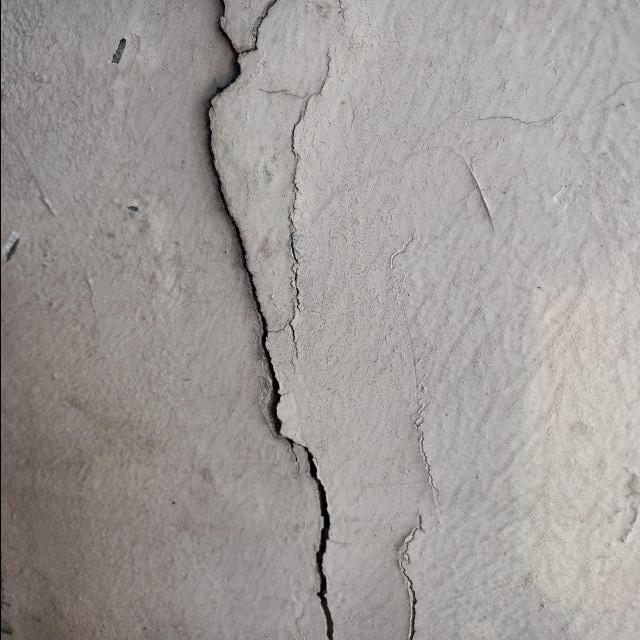SurfaceCrack: (184, 0, 374, 640), (378, 382, 458, 640)
